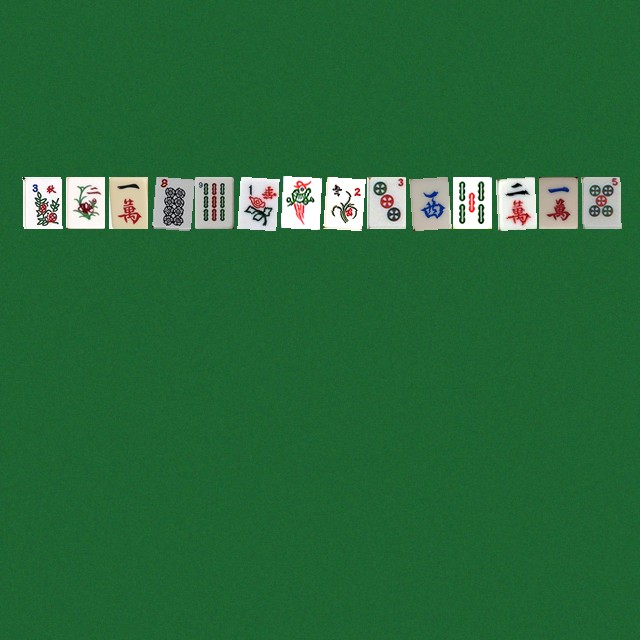tile: (22, 176, 61, 228), (65, 176, 104, 228), (108, 176, 147, 228), (151, 176, 190, 228), (194, 176, 233, 228), (237, 176, 276, 228), (280, 176, 319, 228), (323, 176, 362, 228), (366, 176, 405, 228), (409, 176, 448, 228), (452, 176, 491, 228), (495, 176, 534, 228), (538, 176, 577, 228), (581, 176, 620, 228)
